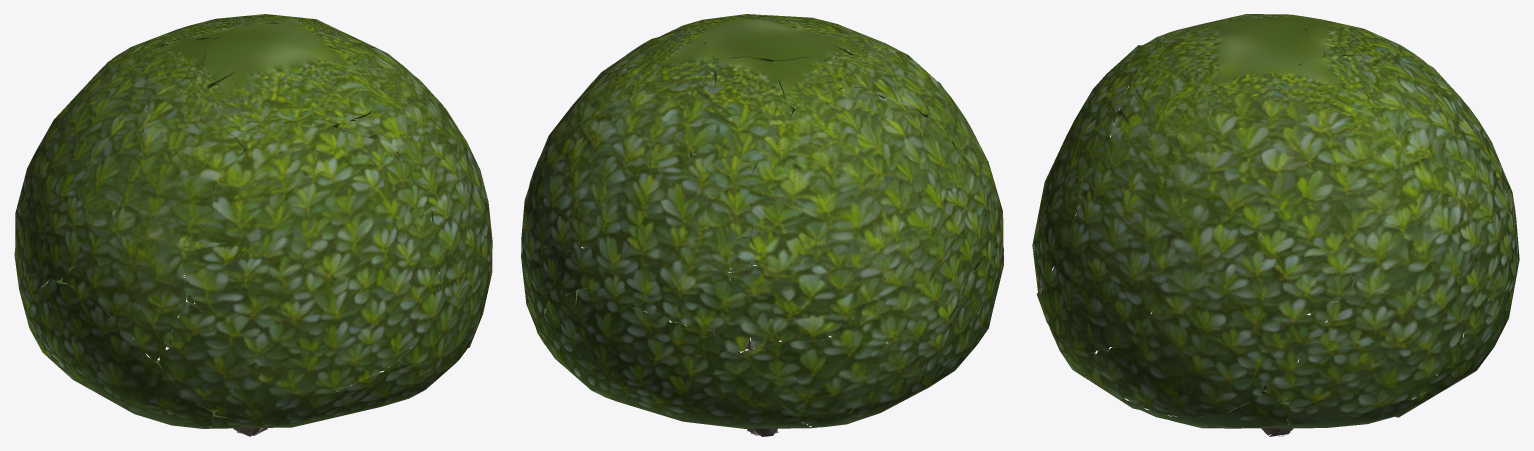
Rendered from bush.glb.
3 renders of one model, left to right at view 1: azimuth 30°, elevation 25°; view 2: azimuth 150°, elevation 25°; view 3: azimuth 270°, elevation 25°, orthographic.
Visible parts, largest first — view 1: node_0; view 2: node_0; view 3: node_0.
Boxes of the visible parts, <box> form: node_0: <box>14,14,492,436</box>; node_0: <box>521,14,1003,436</box>; node_0: <box>1032,14,1519,436</box>.
Bounding box in the file's own units: 0.9484 × 0.8526 × 0.9544.
Materials: 1 (1 with a texture image).
